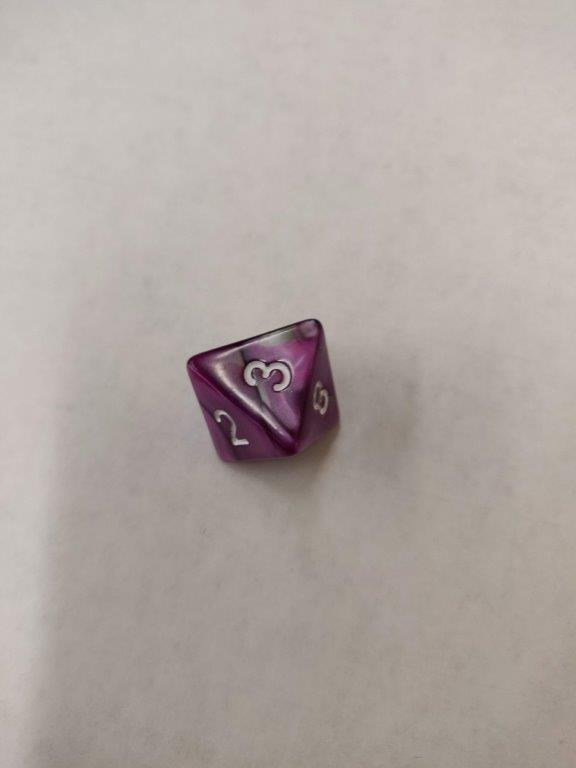d8-3: (185, 316, 339, 465)
